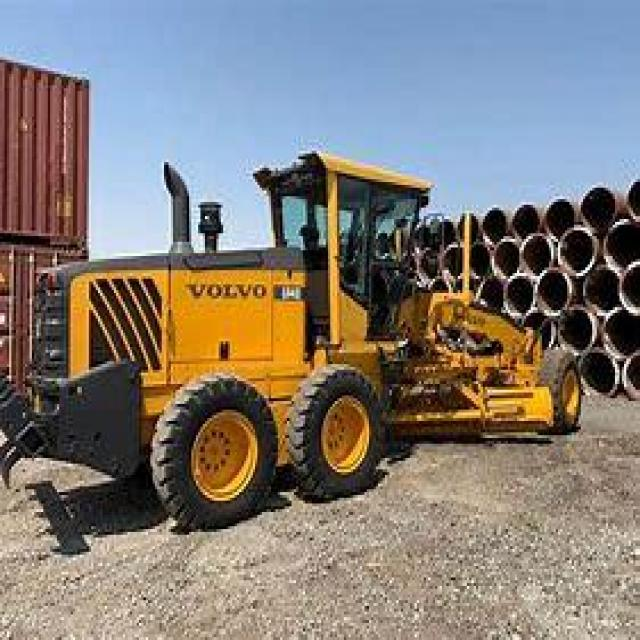Grader: (25, 139, 638, 526)
